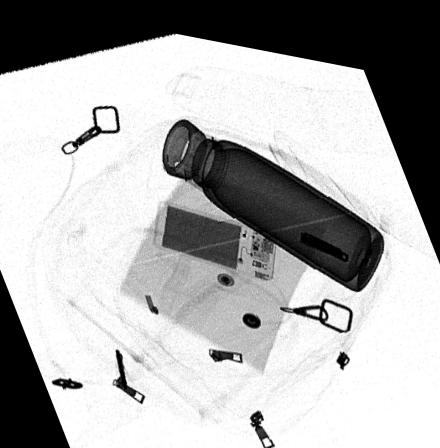Powerbank: (155, 192, 279, 273)
